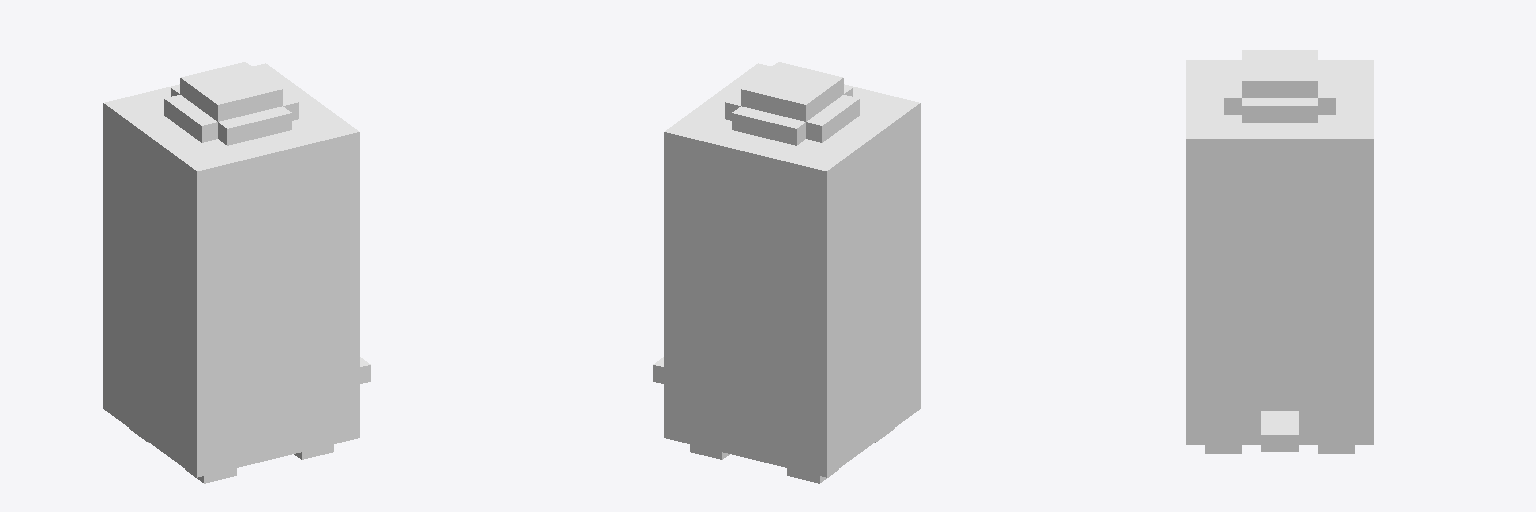
Rendered from button.obj.
3 views of the same model, side by side, from view 1: azimuth 30°, elevation 25°; view 2: azimuth 150°, elevation 25°; view 3: azimuth 270°, elevation 25° (orthographic).
Parts seen in each view (by area): view 1: object 1; view 2: object 1; view 3: object 1.
Boxes of the visible parts, x1,y1,x2,y2 form: object 1: [103, 62, 370, 483]; object 1: [653, 62, 920, 483]; object 1: [1186, 50, 1373, 453].
Bounding box in the file's own units: 1.3 × 2.1 × 1.